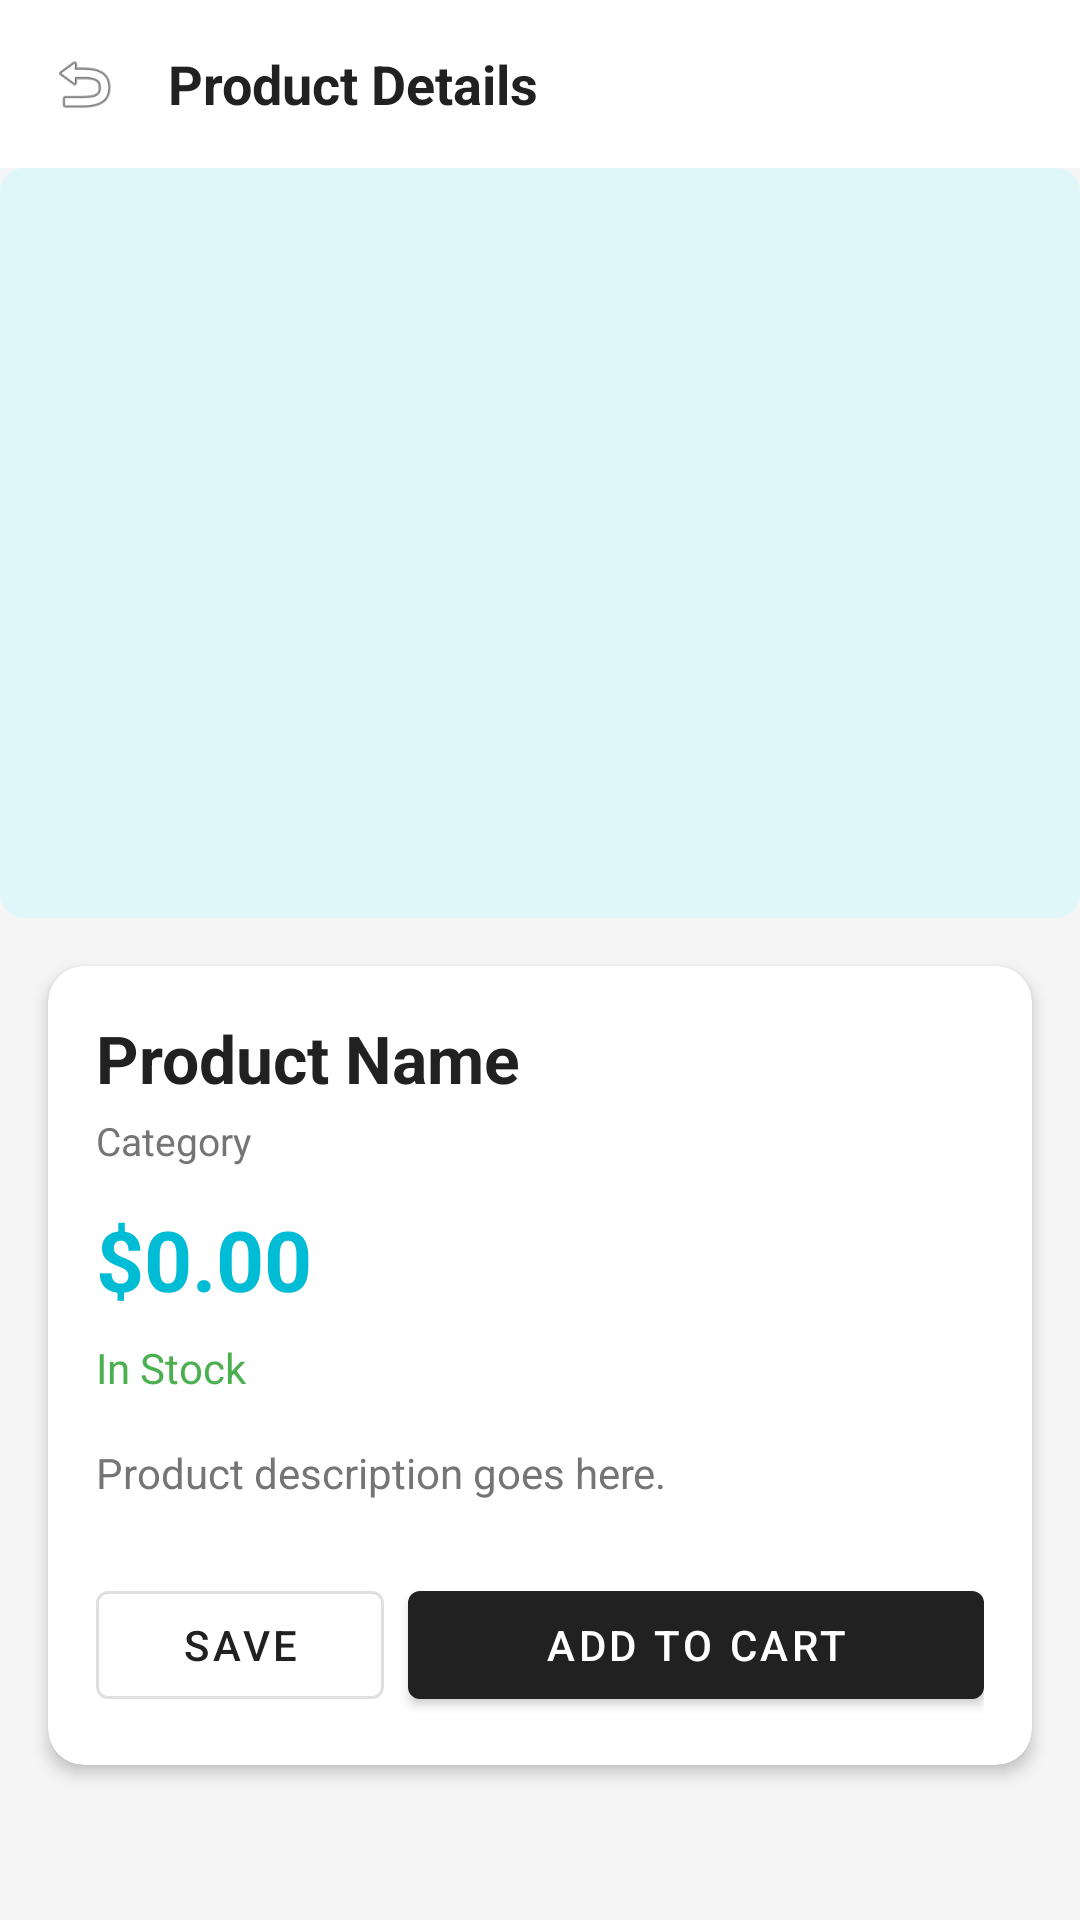

Screen size 1080px x 1920px. Icon name, then its center in pixels as [x,y]:
Back: [85,84]
